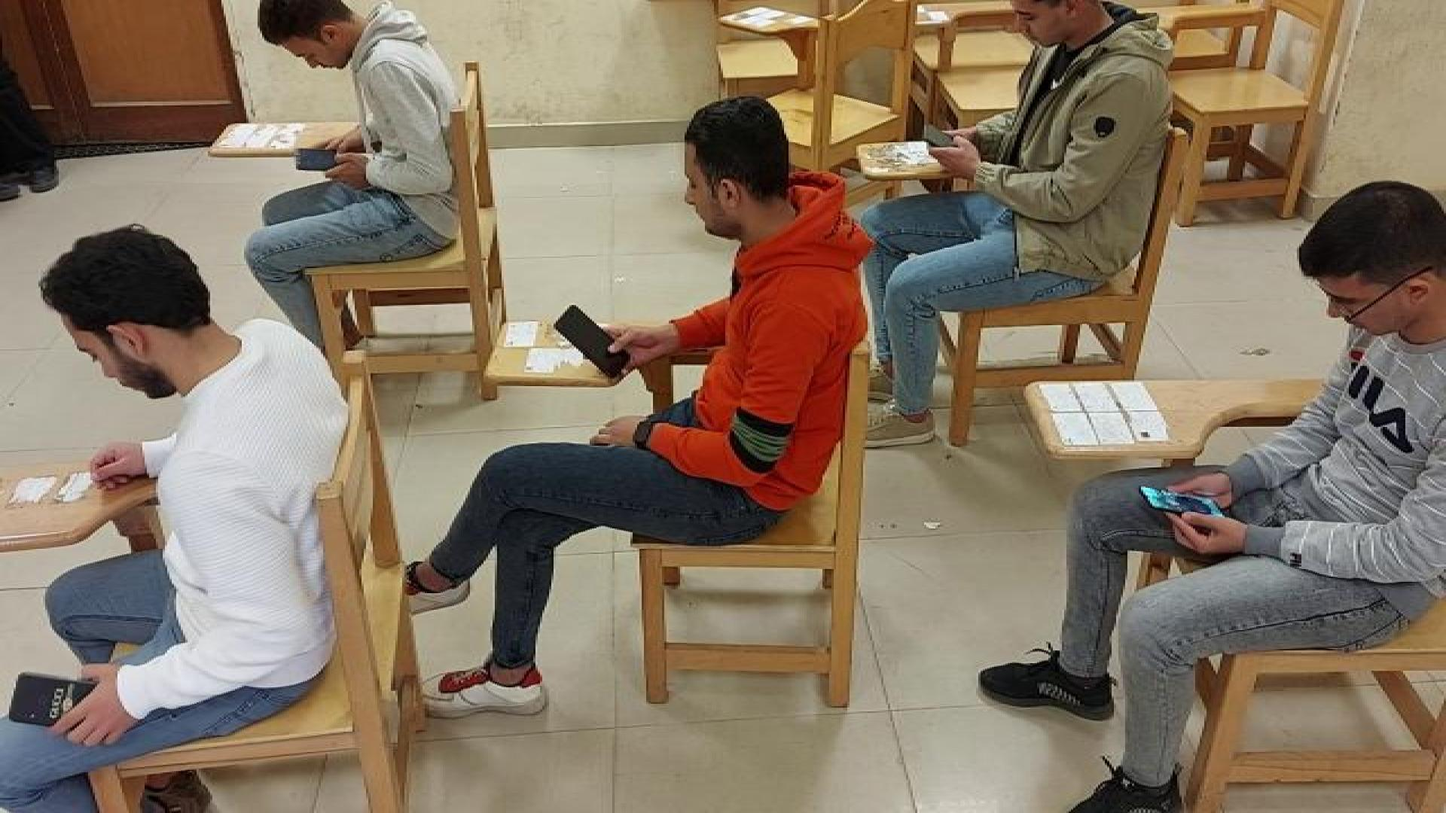phone: (8, 671, 116, 729), (550, 302, 629, 378), (1133, 484, 1232, 517), (293, 149, 367, 174), (916, 123, 952, 151)
